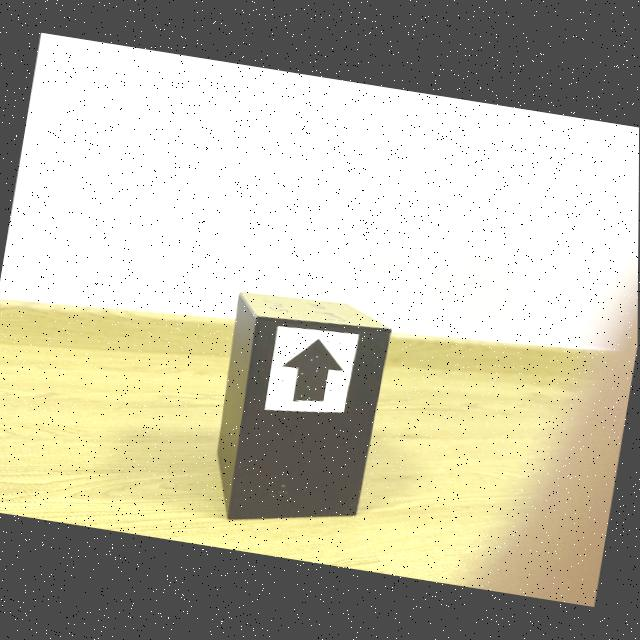UP: (282, 340, 345, 402)
